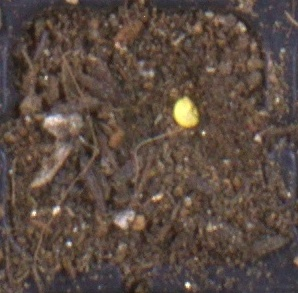chilli seed: (173, 95, 200, 128)
